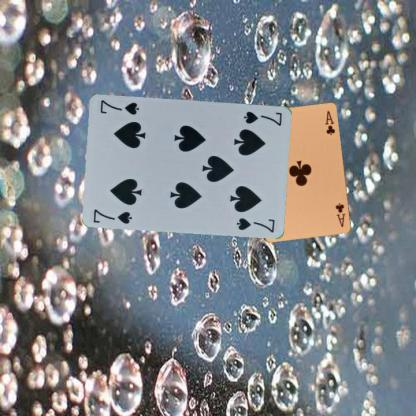7s: (90, 206, 134, 225), (241, 108, 284, 127)
Ac: (332, 201, 347, 228)
